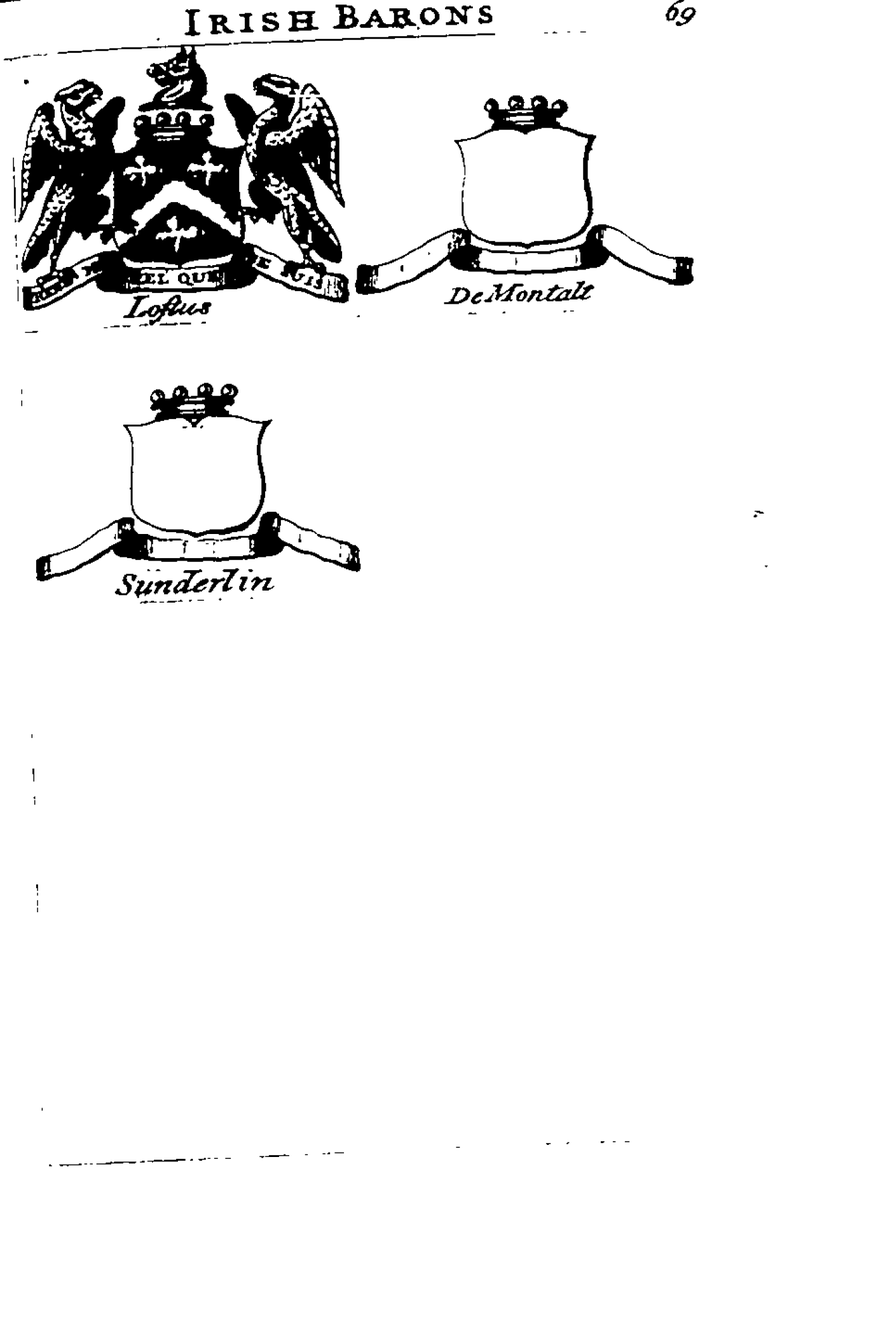coat_of_arms: (16, 355, 379, 622), (349, 54, 702, 326), (9, 60, 341, 326)
